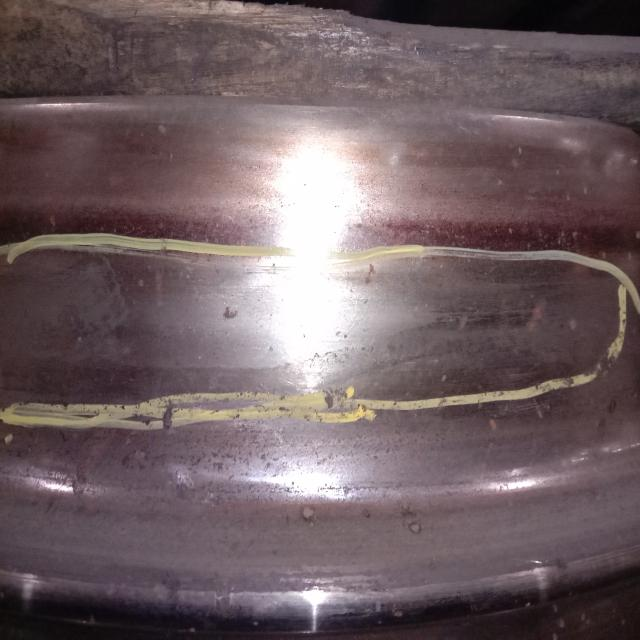flat: (379, 255, 615, 386), (150, 251, 378, 383), (1, 243, 138, 376)
